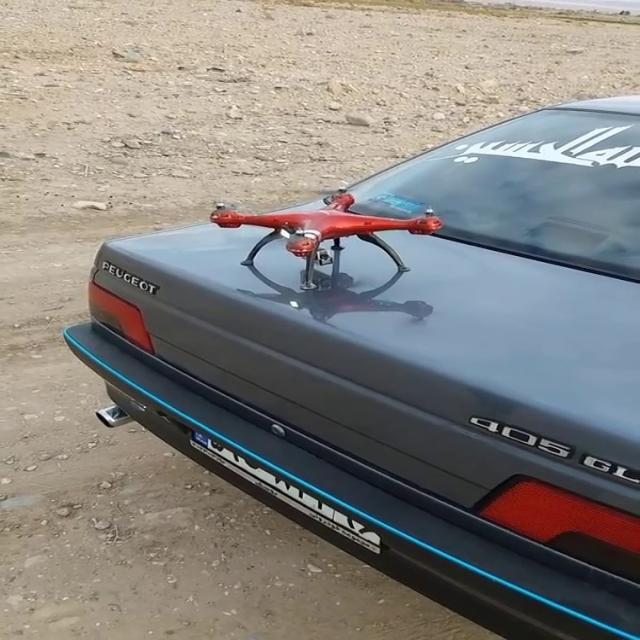drone: (201, 182, 464, 295)
